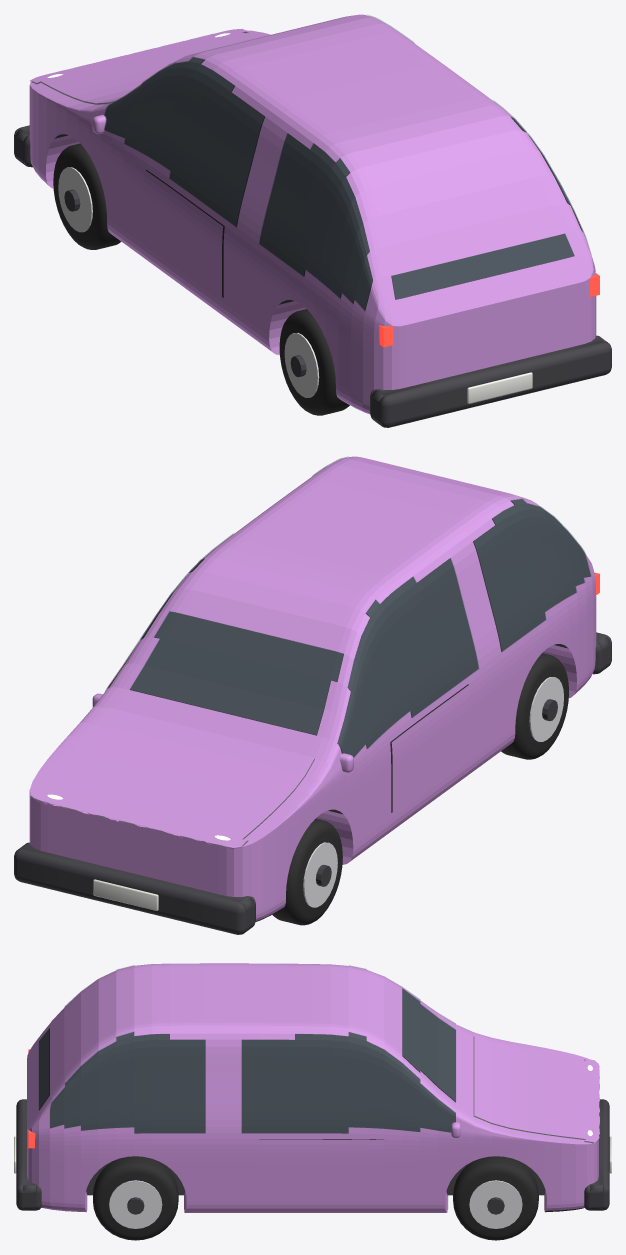
Rendered from car_pickle.glb.
3 views of the same model, one above another, from view 1: azimuth 30°, elevation 25°; view 2: azimuth 150°, elevation 25°; view 3: azimuth 270°, elevation 25° (orthographic). The views are drawn at different scales.
Parts seen in each view (by area): view 1: body, glass_l, bumper_r, door_l, hood, wheel_rl, glass_r, wheel_fl, extra_plate_r, bumper_f; view 2: body, glass_l, hood, glass_f, bumper_f, door_l, wheel_fl, wheel_rl, extra_plate_f; view 3: body, glass_r_side, hood, door_r, wheel_fr, wheel_rr, glass_f, bumper_r, bumper_f, glass_r.
Part boxes in pixels (left/top/right/bottom): body: left=29, top=14, right=596, bottom=414; glass_l: left=103, top=56, right=372, bottom=310; bumper_r: left=370, top=335, right=611, bottom=427; door_l: left=143, top=170, right=223, bottom=297; hood: left=30, top=28, right=258, bottom=103; wheel_rl: left=279, top=309, right=349, bottom=415; glass_r: left=391, top=233, right=574, bottom=299; wheel_fl: left=53, top=143, right=121, bottom=249; extra_plate_r: left=467, top=372, right=532, bottom=403; bumper_f: left=14, top=125, right=32, bottom=167; body: left=29, top=456, right=596, bottom=921; glass_l: left=337, top=498, right=591, bottom=757; hood: left=29, top=707, right=314, bottom=849; glass_f: left=129, top=611, right=343, bottom=734; bumper_f: left=14, top=842, right=255, bottom=934; door_l: left=391, top=684, right=471, bottom=813; wheel_fl: left=272, top=818, right=342, bottom=925; wheel_rl: left=501, top=653, right=568, bottom=759; extra_plate_f: left=93, top=879, right=158, bottom=910; body: left=27, top=963, right=598, bottom=1212; glass_r_side: left=49, top=1031, right=456, bottom=1133; hood: left=474, top=1035, right=599, bottom=1143; door_r: left=259, top=1139, right=384, bottom=1196; wheel_fr: left=453, top=1156, right=538, bottom=1240; wheel_rr: left=93, top=1156, right=178, bottom=1240; glass_f: left=402, top=988, right=456, bottom=1211; bumper_r: left=16, top=1099, right=41, bottom=1210; bumper_f: left=584, top=1099, right=609, bottom=1210; glass_r: left=38, top=1028, right=49, bottom=1109.
Bounding box in the file's own units: 2 × 1.87 × 5.02.
